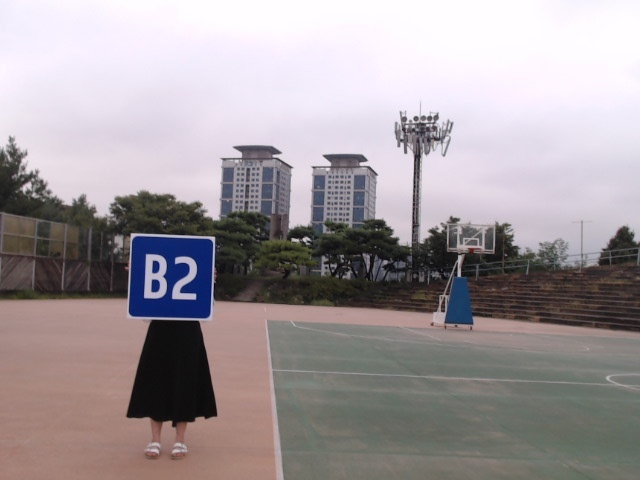delivery_b2: (126, 235, 215, 320)
